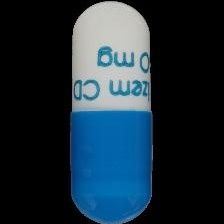0187-0799: (0, 0, 224, 224)
